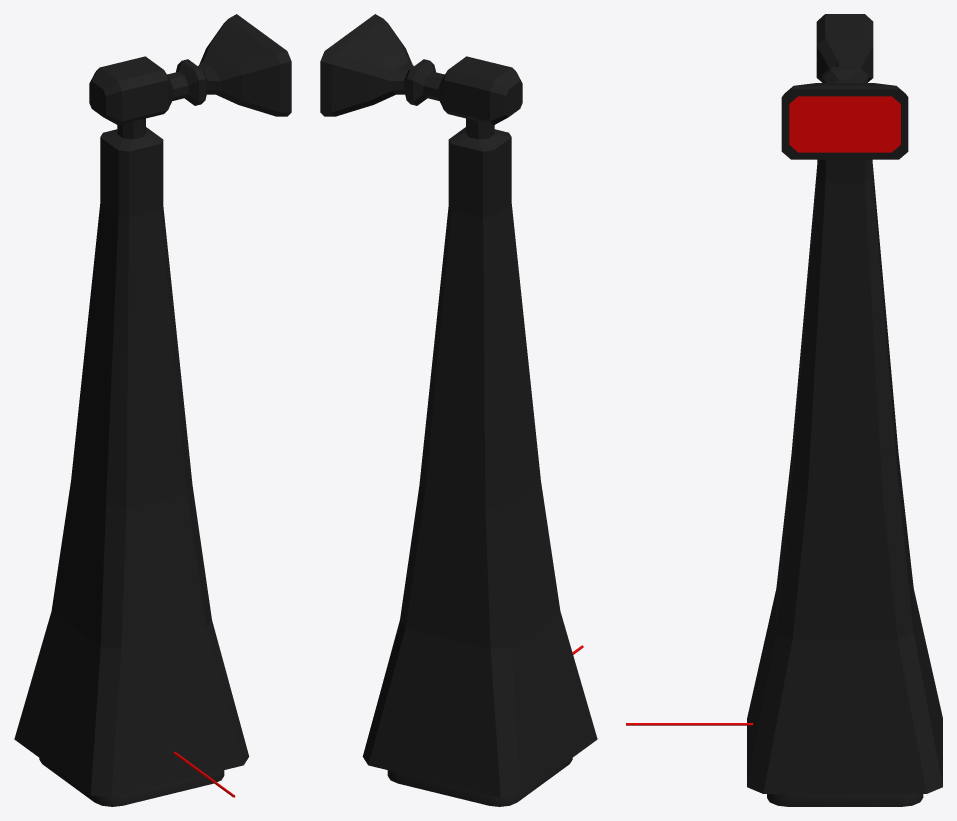
The model's file is Trigger.fbx.
3 views of the same model, side by side, from view 1: azimuth 30°, elevation 25°; view 2: azimuth 150°, elevation 25°; view 3: azimuth 270°, elevation 25° (orthographic). The views are drawn at different scales.
Parts seen in each view (by area): view 1: SpotTrap, SpotTrapHead, PressurePlate; view 2: SpotTrap, SpotTrapHead, PressurePlate; view 3: SpotTrap, SpotTrapHead, PressurePlate.
Part boxes in pixels (<box>): SpotTrap: <box>14,118,249,797</box>; SpotTrapHead: <box>89,14,291,125</box>; PressurePlate: <box>39,758,224,806</box>; SpotTrap: <box>362,118,597,797</box>; SpotTrapHead: <box>320,14,522,125</box>; PressurePlate: <box>387,758,572,806</box>; SpotTrap: <box>747,159,942,793</box>; SpotTrapHead: <box>781,14,908,159</box>; PressurePlate: <box>767,794,923,806</box>.
Bounding box in the file's own units: 1.65 × 2.03 × 5.36.
